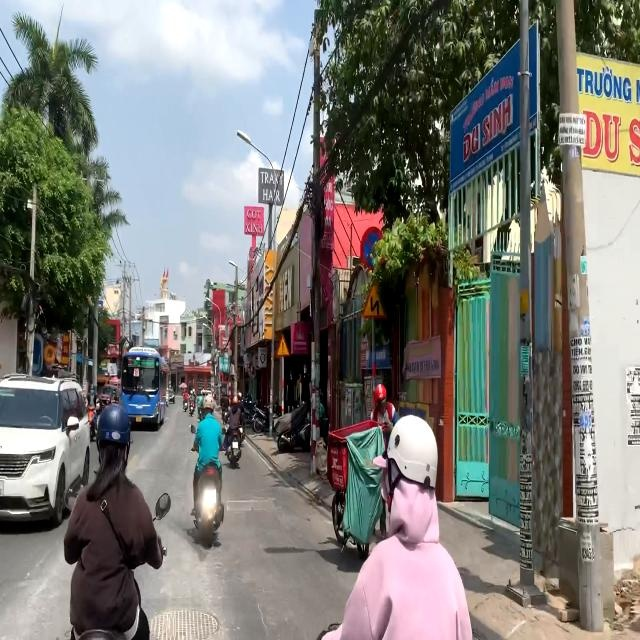bien_nguy_hiem: (362, 283, 387, 319), (275, 333, 291, 358)
